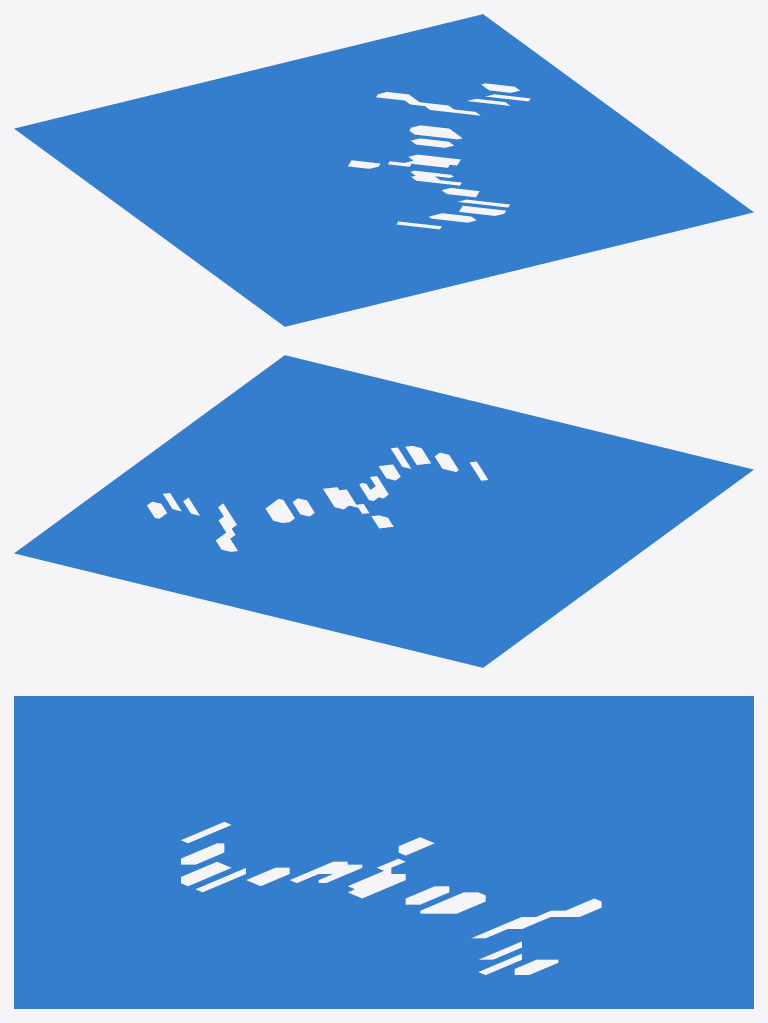
The model's file is floor.glb.
The picture shows the model from 3 angles, top to bottom: view 1: azimuth 30°, elevation 25°; view 2: azimuth 150°, elevation 25°; view 3: azimuth 270°, elevation 25°; orthographic projection. The views are drawn at different scales.
Visible parts, largest first — view 1: Plane; view 2: Plane; view 3: Plane.
Part boxes in pixels (bbox=[...]): Plane: bbox=[14, 14, 753, 326]; Plane: bbox=[14, 355, 753, 667]; Plane: bbox=[14, 696, 753, 1008].
Size of the model in its own units: 50 by 0 by 50.
